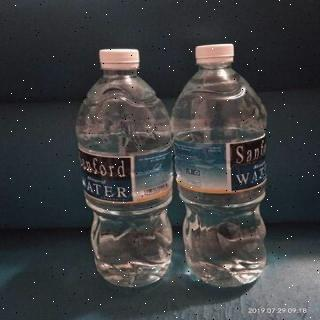Plastic-bottle: (166, 41, 272, 291), (73, 45, 179, 294)
